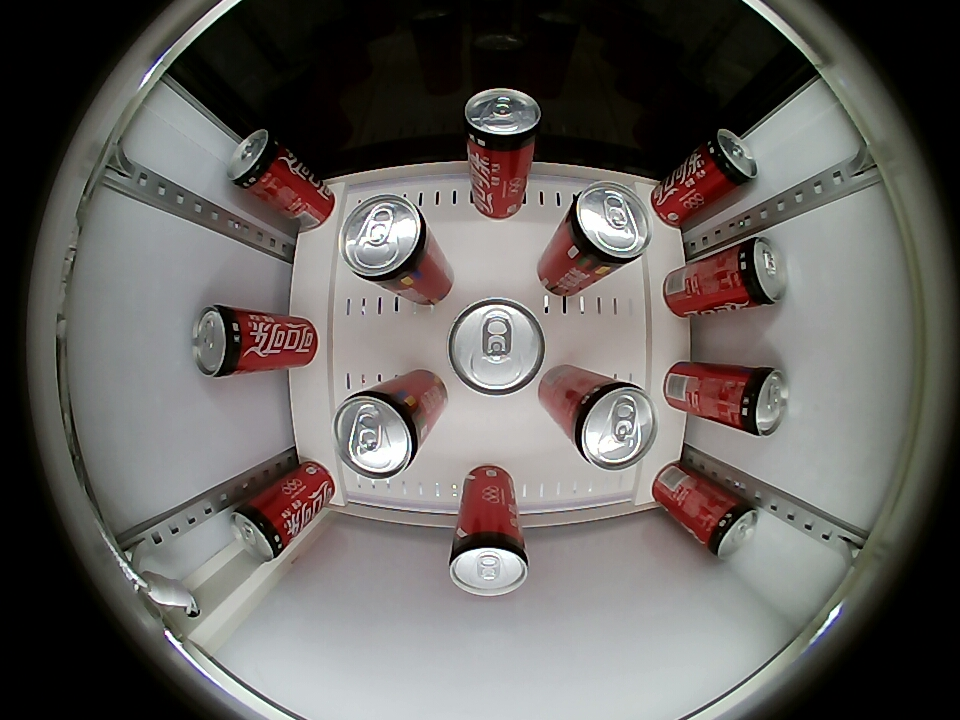lingdukele: (447, 297, 546, 396), (339, 194, 434, 287), (333, 387, 427, 479), (566, 378, 658, 471), (561, 181, 652, 271), (463, 88, 542, 159), (448, 528, 530, 596), (727, 237, 787, 311), (192, 305, 252, 378), (729, 365, 788, 437), (227, 129, 288, 197), (697, 490, 758, 558), (230, 497, 292, 560), (700, 129, 757, 191)
